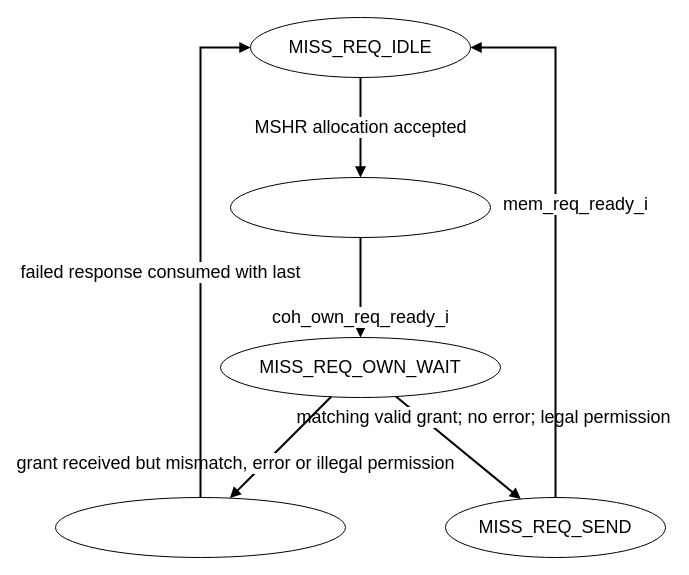
The diagram is 689 pixels wide and 575 high, and some of its shapes have lost their labels. Each missing label, with the centre of its shape:
"MISS_REQ_OWN_ERROR" belongs at point (200, 527).
"MISS_REQ_OWN_REQ" belongs at point (360, 207).
